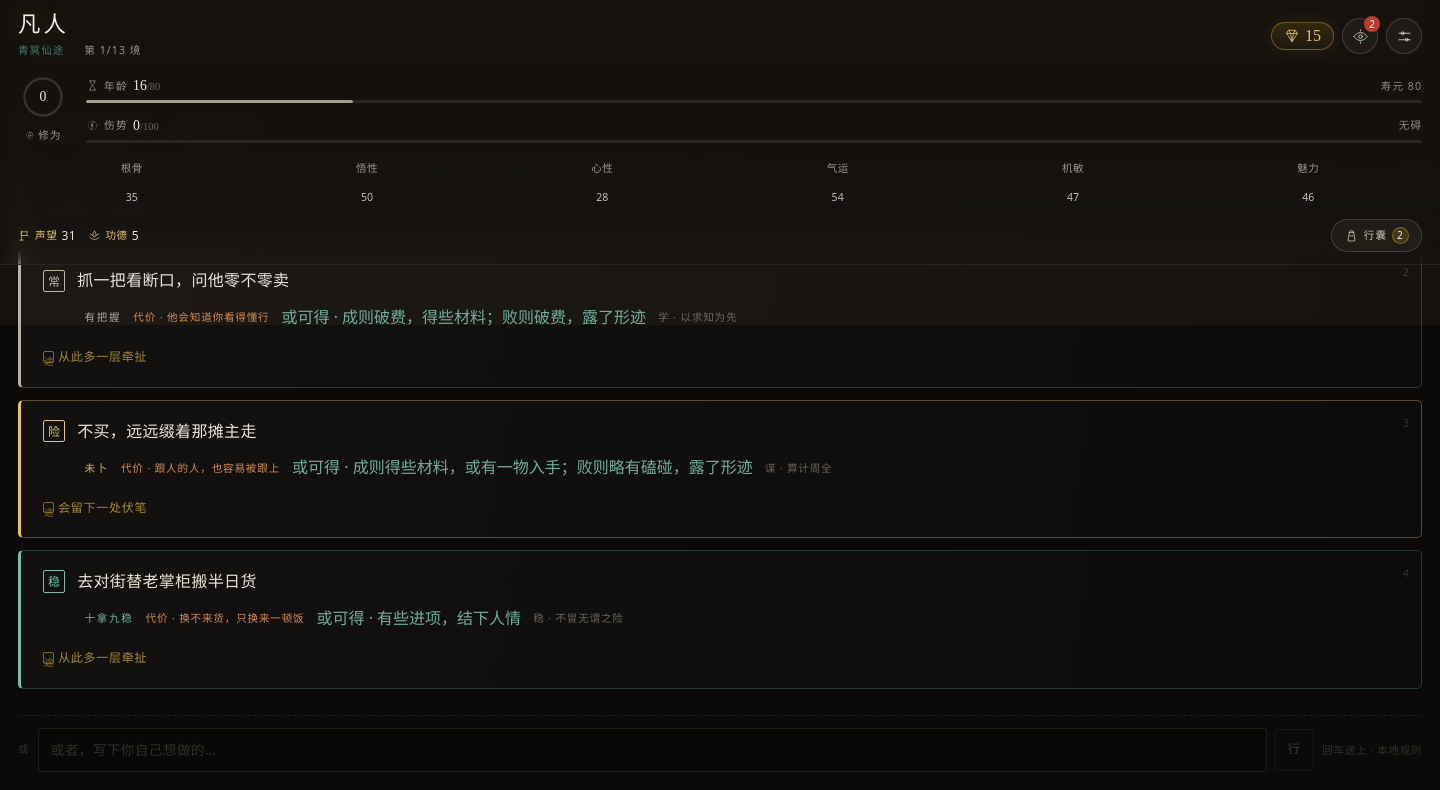
Test: FreeEcho 回显 › 数字剥离：真跑一遍也剥干净（玩家在输入行里写的数字同样不上屏）
(page scrolled)
Type "第7次试着用3成力气夺宝" into the field named "自由输入".
click(652, 750); type("第7次试着用3成力气夺宝")  # box [38,728,1267,772]
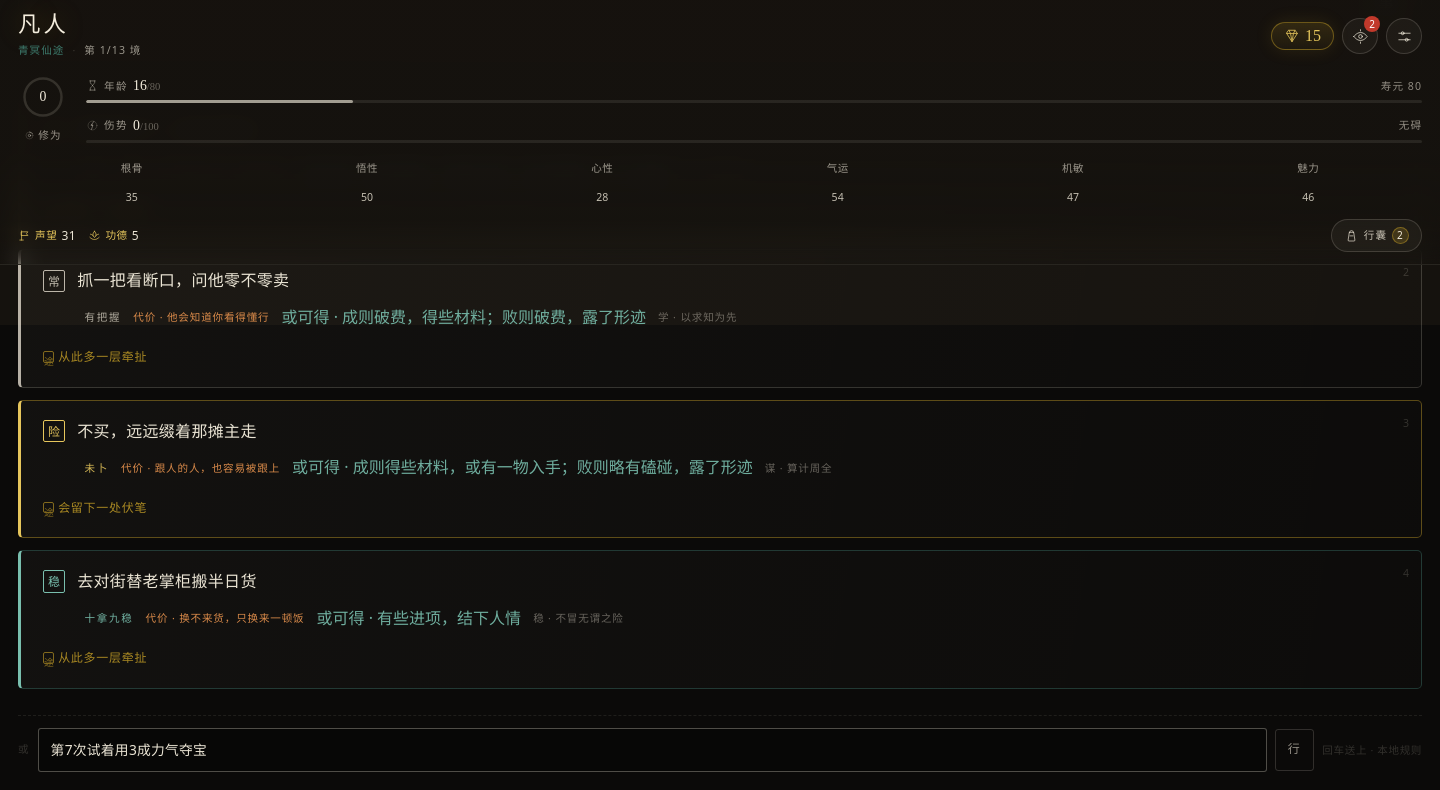
Press Enter
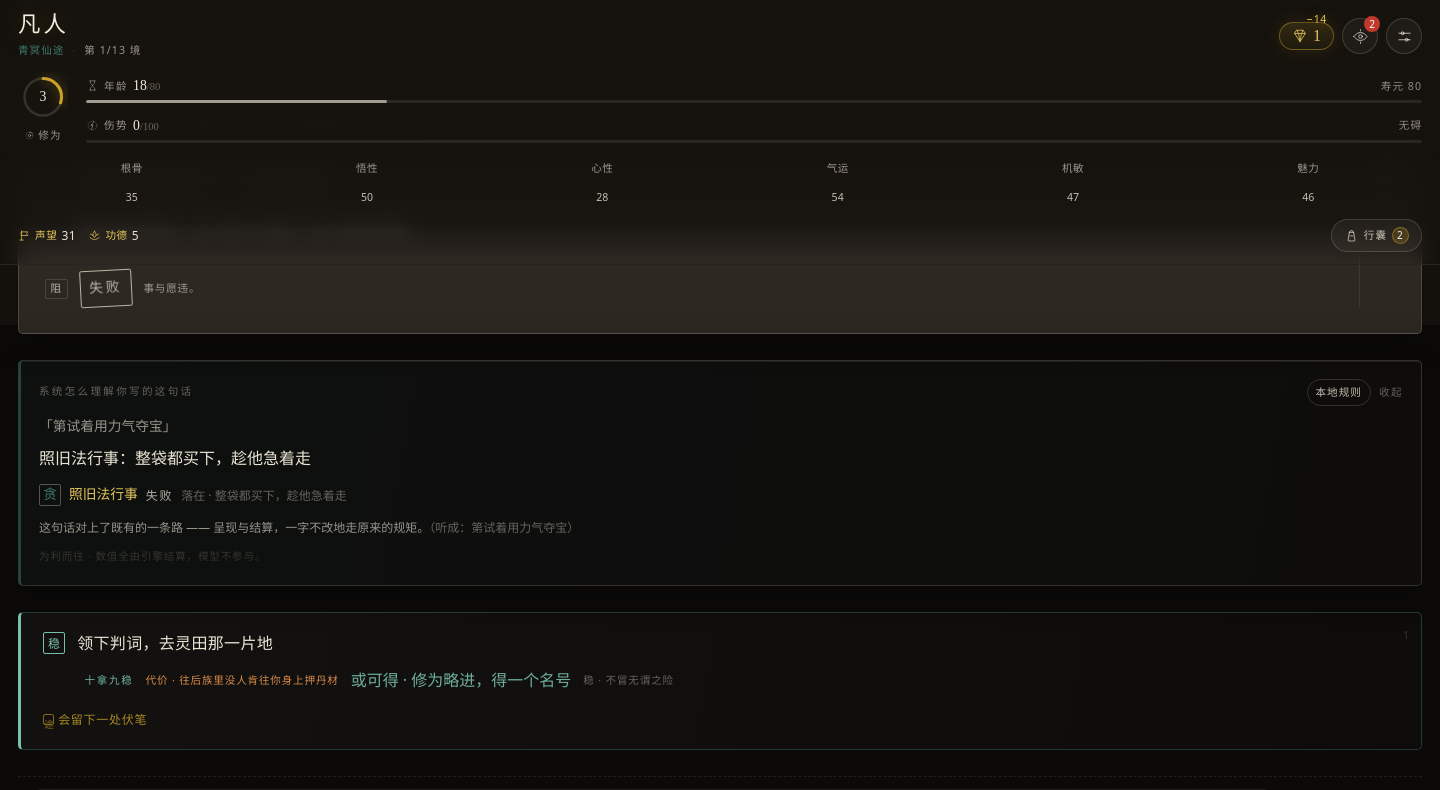
Expected: the element that starts with "系统怎么理解你写的这句话" is shown, [39,386,194,397]
